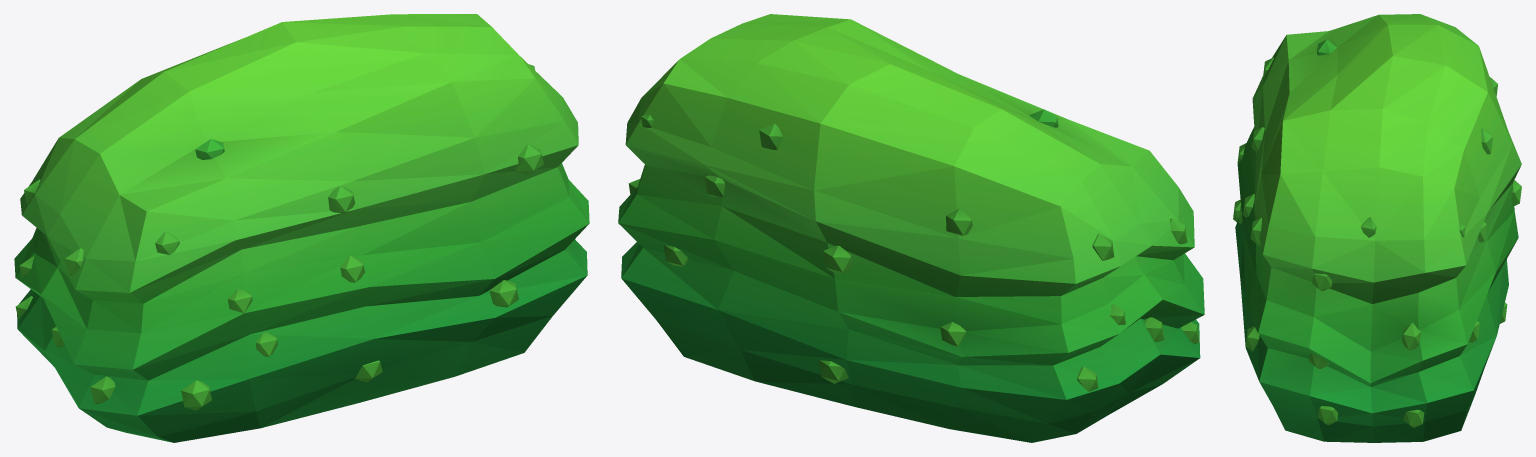
File: bush_mound.glb
3 renders of one model, left to right at view 1: azimuth 30°, elevation 25°; view 2: azimuth 150°, elevation 25°; view 3: azimuth 270°, elevation 25°, orthographic. The views are drawn at different scales.
Visible parts, largest first — view 1: Bush_1_2_D; view 2: Bush_1_2_D; view 3: Bush_1_2_D.
Part boxes in pixels (bbox=[...]): Bush_1_2_D: bbox=[14, 14, 589, 442]; Bush_1_2_D: bbox=[618, 14, 1204, 442]; Bush_1_2_D: bbox=[1233, 14, 1521, 442].
Bounding box in the file's own units: 1.83 × 1.03 × 0.913.
1 material, 1 textured.
